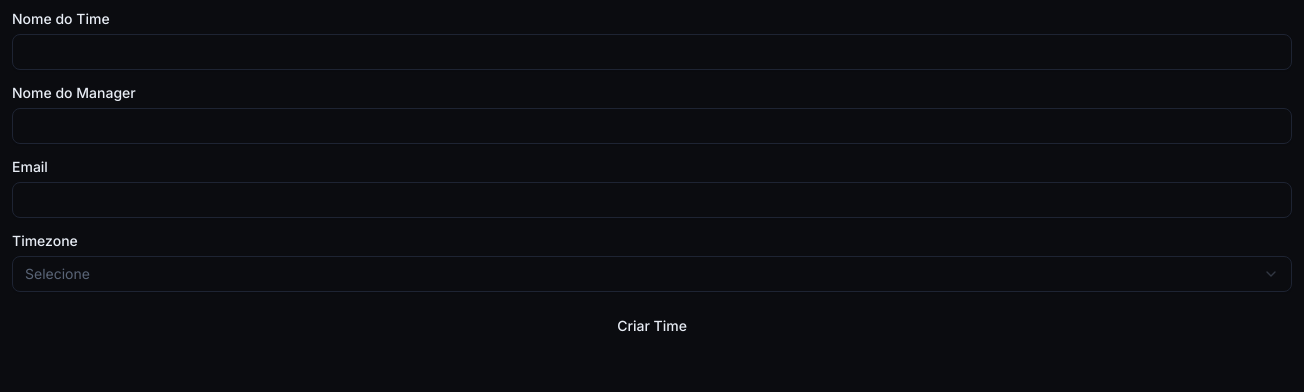
Test: TeamCreateForm › shows timezone validation error on empty submit
The width and height of the screenshot is (1304, 392).
Type "Lero Lero" into the field labelled "Nome do Time" at (652, 52), box [12,34,1292,70]
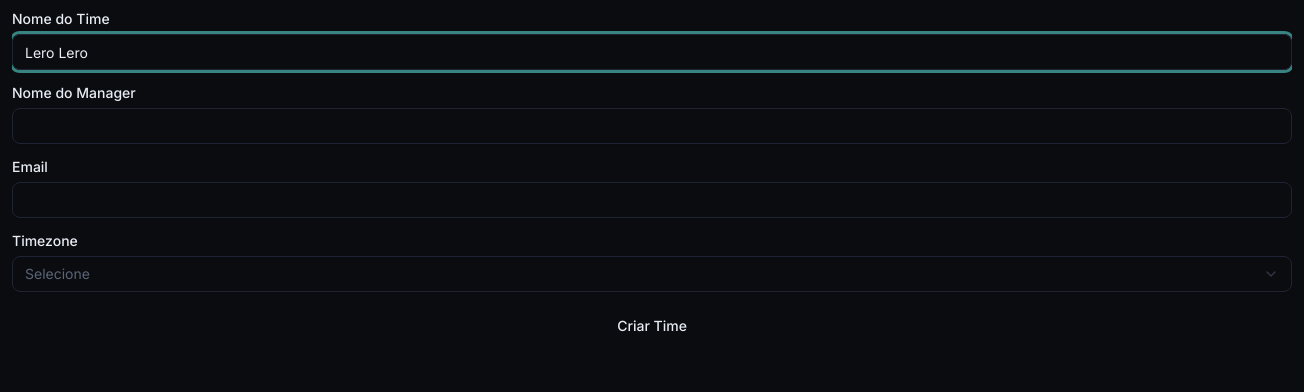
Type "Renan" into the field labelled "Nome do Manager" at (652, 126), box [12,108,1292,144]
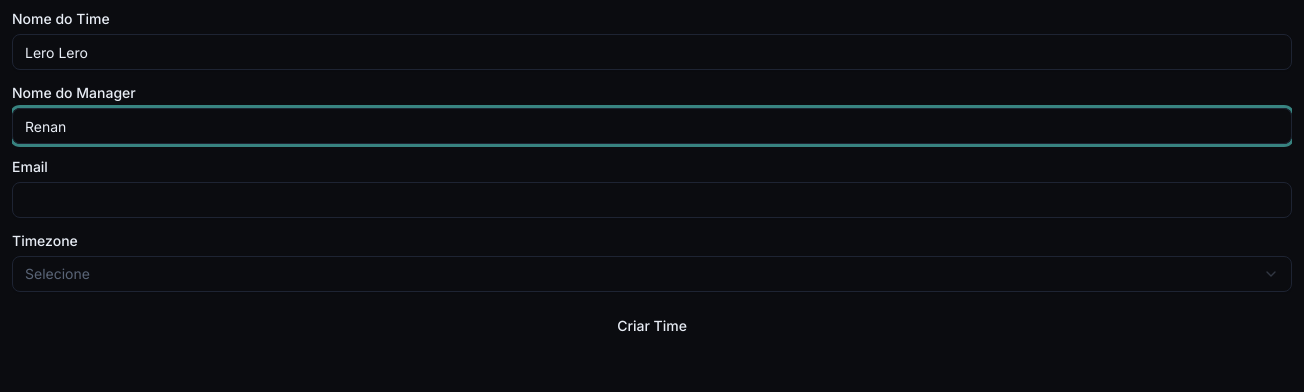
Type "renan@test.com" into the field labelled "Email" at (652, 200), box [12,182,1292,218]
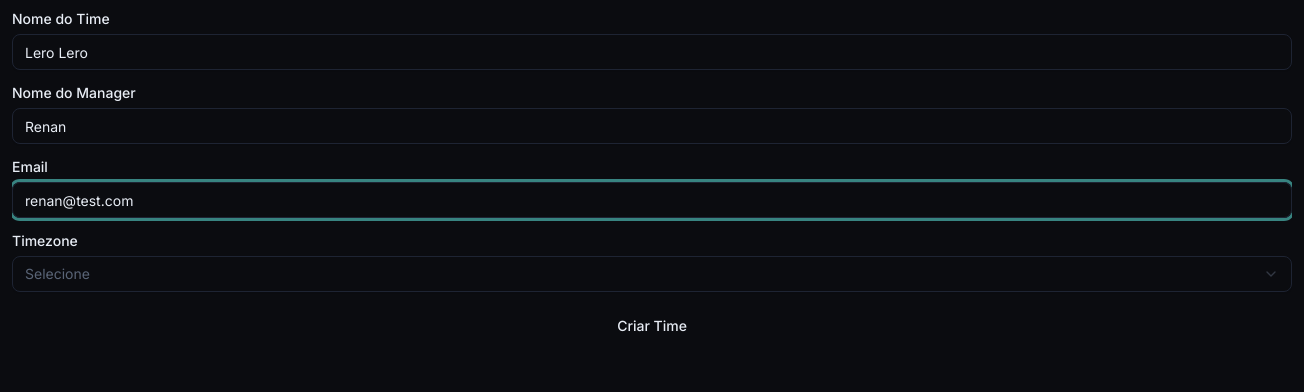
Click the button "Criar Time" at (652, 326), box [12,308,1292,344]
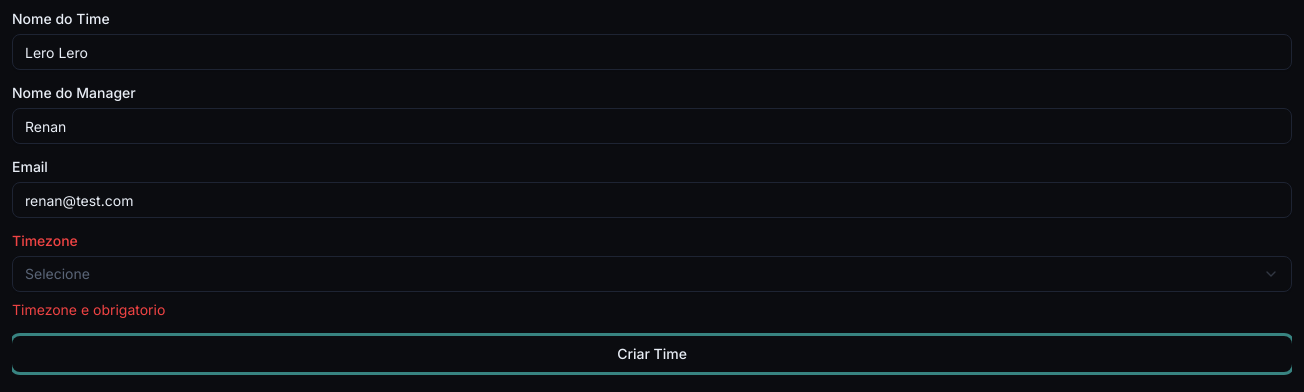
Now the text "Timezone e obrigatorio" is shown, box [12,301,165,318]
